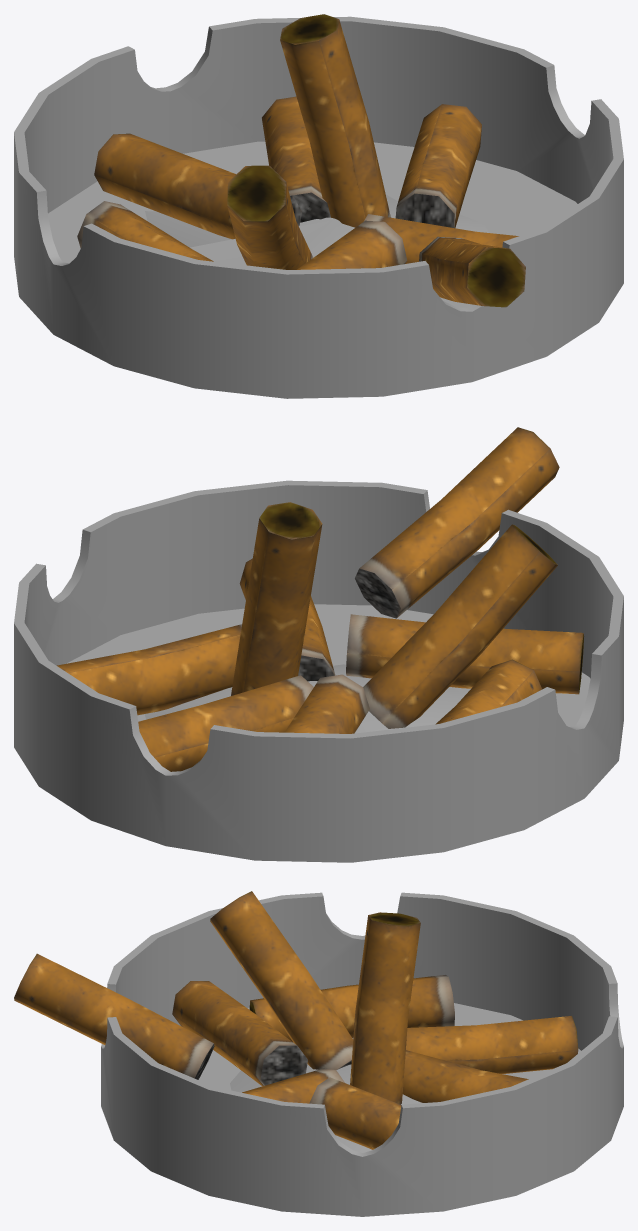
The model's file is ash_cup.fbx.
3 views of the same model, one above another, from view 1: azimuth 30°, elevation 25°; view 2: azimuth 150°, elevation 25°; view 3: azimuth 270°, elevation 25° (orthographic). The views are drawn at different scales.
Visible parts, largest first — view 1: ash_cup; view 2: ash_cup; view 3: ash_cup.
Boxes of the visible parts, x1,y1,x2,y2 form: ash_cup: (14,14,623,398); ash_cup: (14,427,623,862); ash_cup: (14,891,623,1216).
Bounding box in the file's own units: 0.3528 × 0.1465 × 0.4116.
